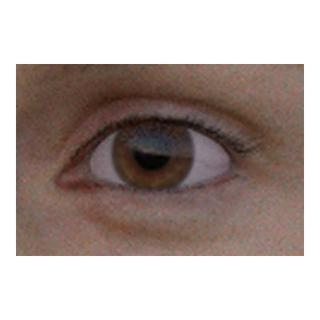pupil: (134, 134, 170, 170)
